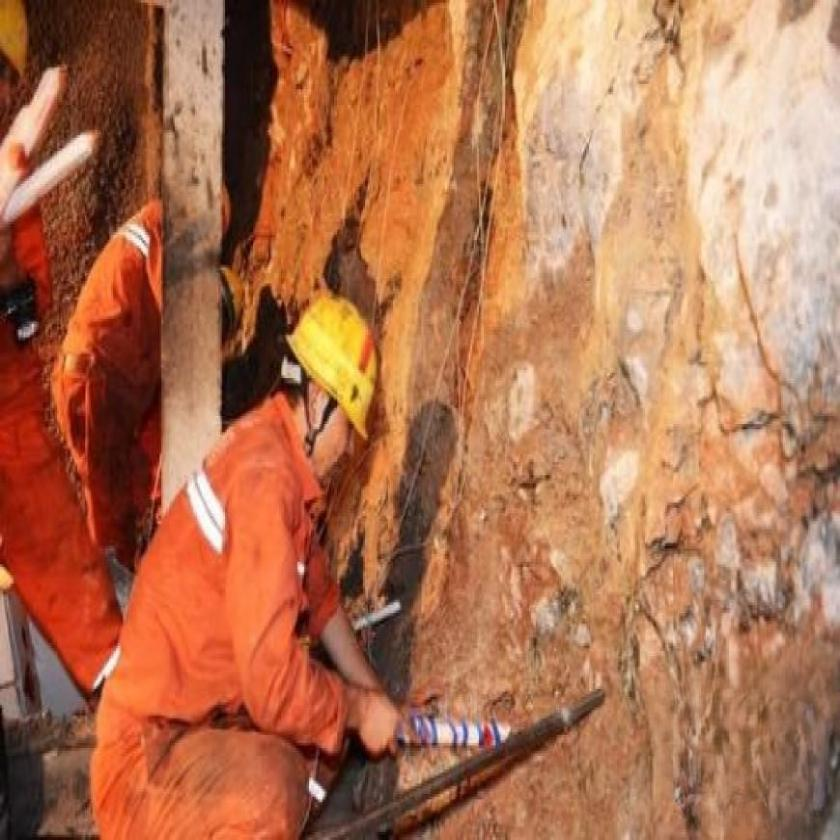Con_casco: (254, 288, 394, 490)
